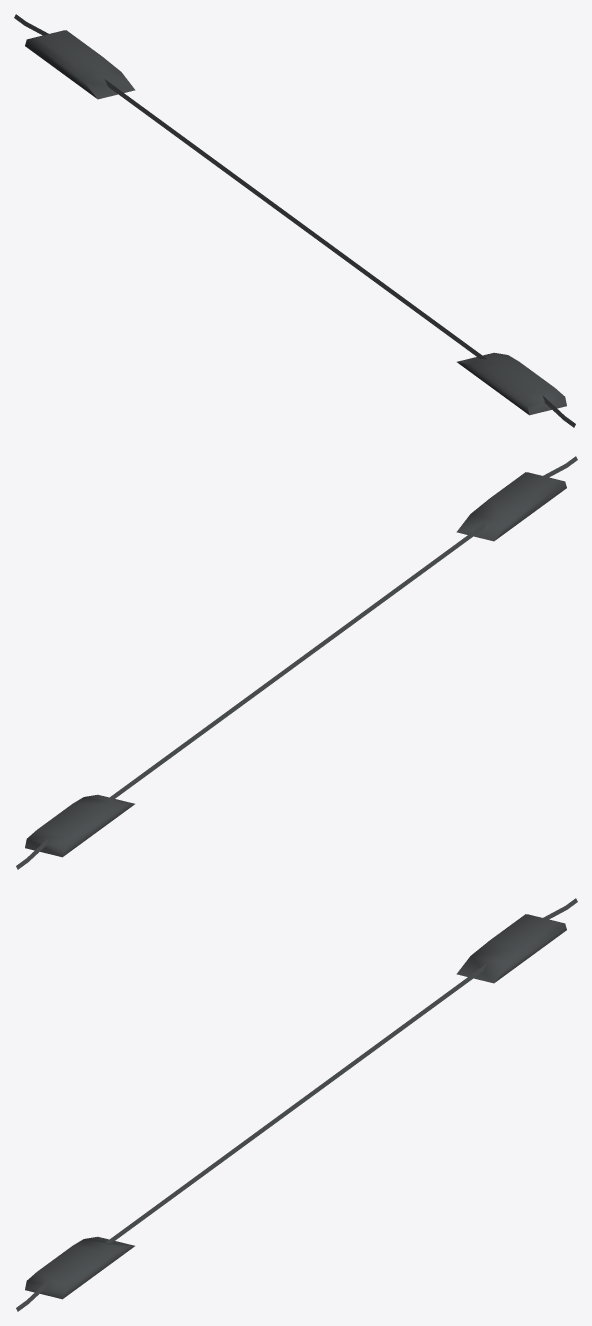
File: S300_BOJ_01.glb
3 views of the same model, one above another, from view 1: azimuth 30°, elevation 25°; view 2: azimuth 150°, elevation 25°; view 3: azimuth 330°, elevation 25° (orthographic).
Parts seen in each view (by area): view 1: yane01; view 2: yane01; view 3: yane01.
Part boxes in pixels (x1=…): yane01: x1=14, y1=14, x2=575, y2=427; yane01: x1=16, y1=456, x2=577, y2=869; yane01: x1=16, y1=898, x2=577, y2=1311.
Size of the model in its own units: 1.69 by 0.5813 by 43.58.
1 material, 1 textured.
